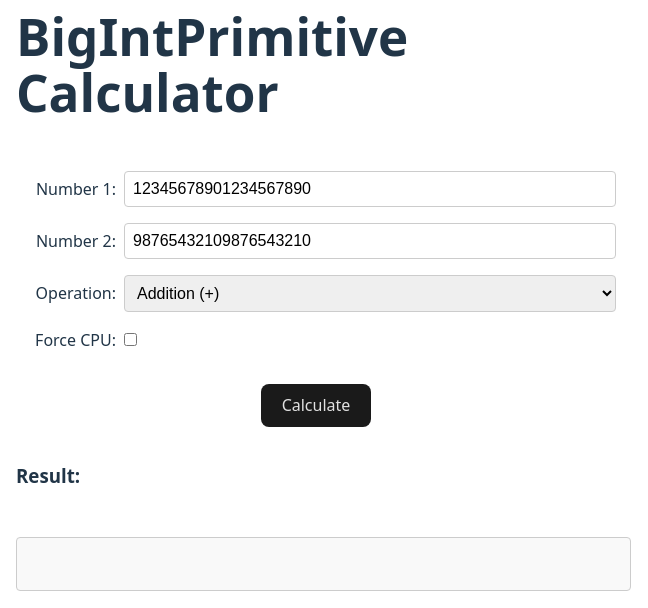
Test: App Component › performs simple subtraction (CPU Path) and displays result
The width and height of the screenshot is (648, 608).
Replace the text in the field labelled "Number 1:" with "50": point(370, 189) 124,171 -> 616,207
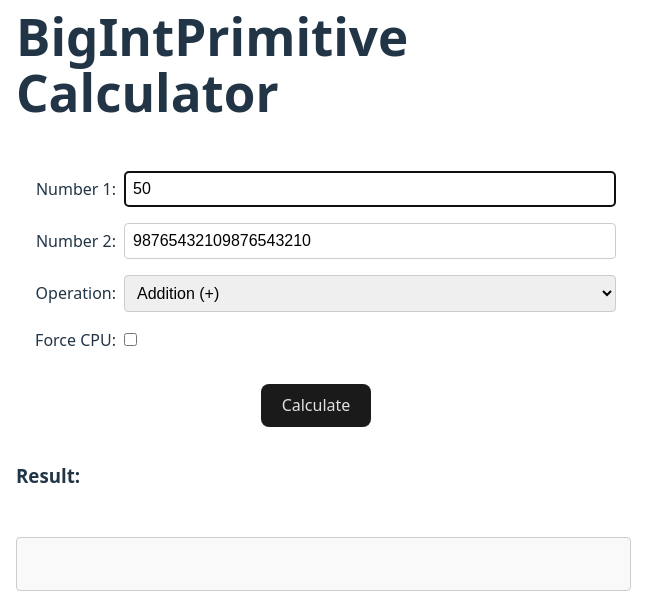
Replace the text in the field labelled "Number 2:" with "10": point(370, 241) 124,223 -> 616,259
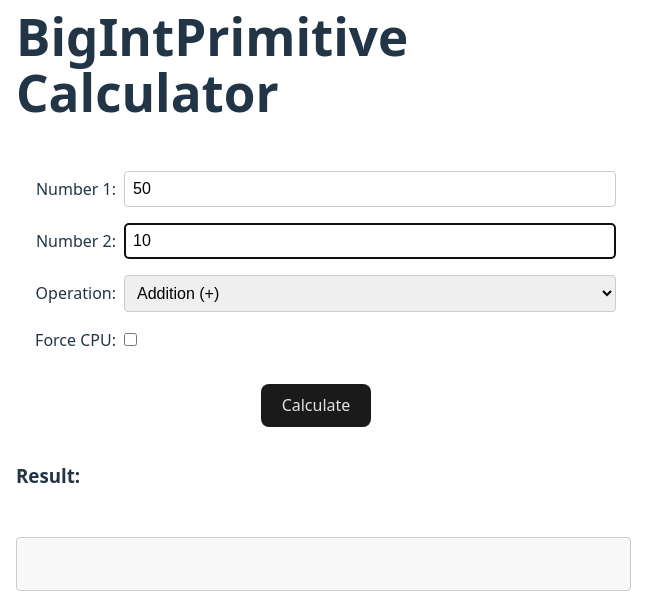
Select "Subtraction (-)" in the dropdown labelled "Operation:": point(370, 293) 124,275 -> 616,312
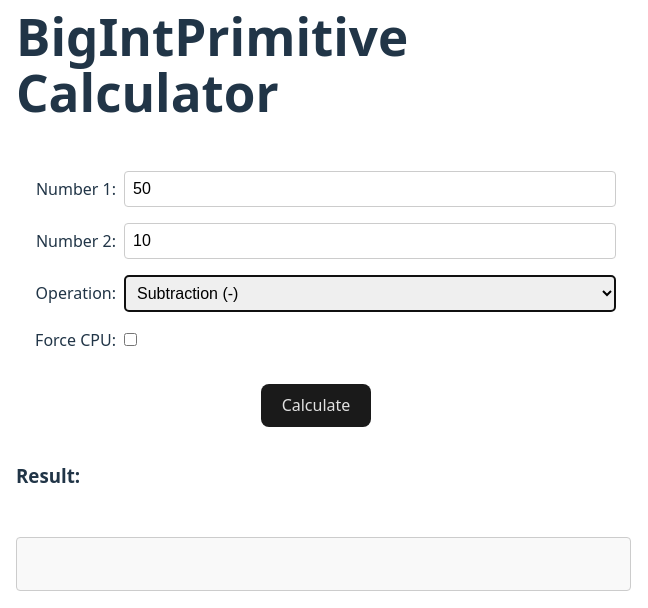
Click the checkbox labelled "Force CPU:": point(130, 340) 124,333 -> 137,346
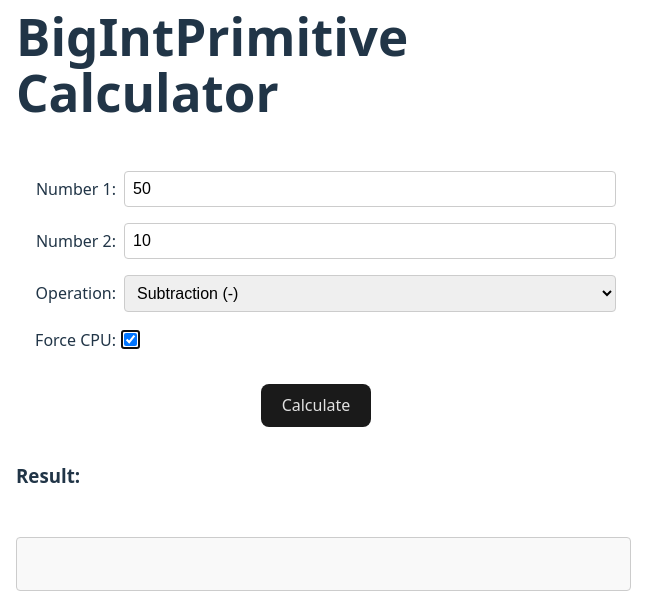
Click the button "Calculate": point(316, 405) 262,384 -> 371,427
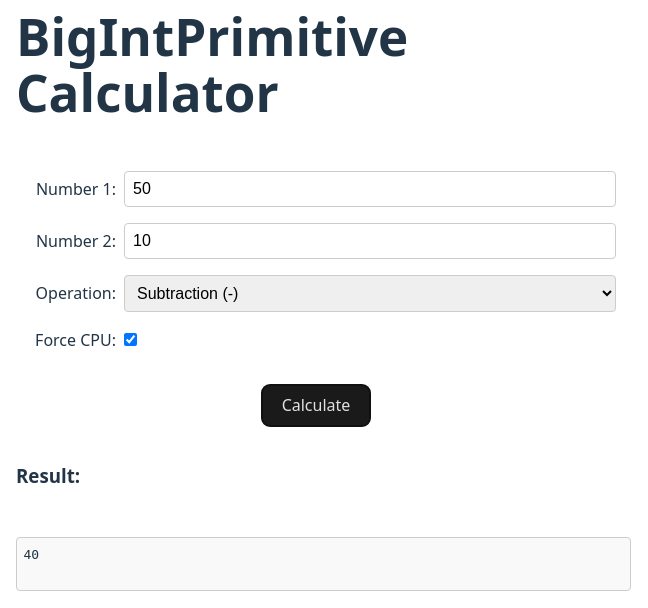
Check: the text with test id "result-area" reads "40", box 24,547 -> 39,562
